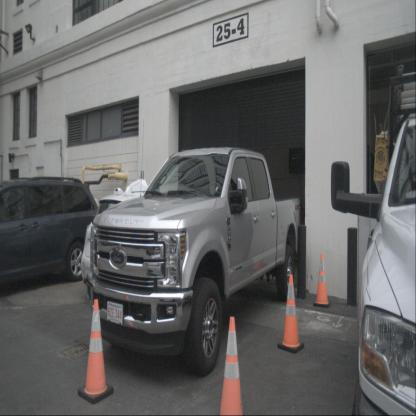cone: (77, 298, 114, 404), (216, 315, 247, 416), (277, 273, 304, 354), (312, 253, 332, 308)
